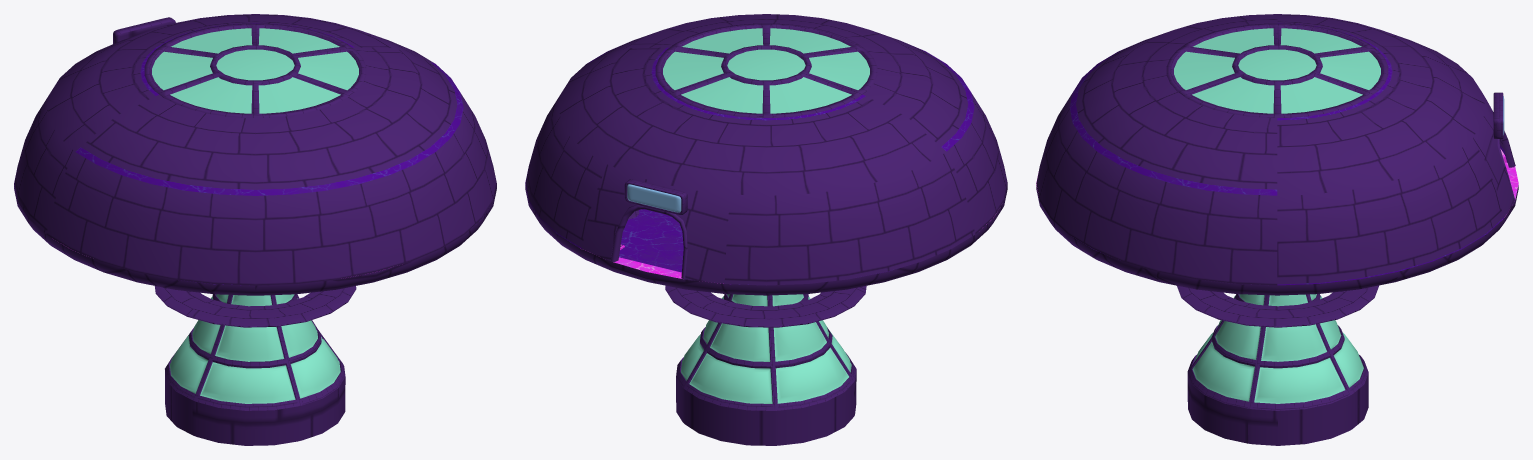
File: Protolick shop.fbx
3 views of the same model, side by side, from view 1: azimuth 30°, elevation 25°; view 2: azimuth 150°, elevation 25°; view 3: azimuth 270°, elevation 25° (orthographic).
Parts seen in each view (by area): view 1: Protolick_shop_top, Protolick_shop_base, Protolick_shop_base_ground, Protolick_shop_floor, Protolick_shop_sign; view 2: Protolick_shop_top, Protolick_shop_base, Protolick_shop_floor, Protolick_shop_base_ground, Protolick_shop_sign; view 3: Protolick_shop_top, Protolick_shop_base, Protolick_shop_base_ground, Protolick_shop_floor, Protolick_shop_sign.
Boxes of the visible parts, <box> form: Protolick_shop_top: <box>14,14,496,285</box>; Protolick_shop_base: <box>154,286,356,410</box>; Protolick_shop_base_ground: <box>165,371,345,445</box>; Protolick_shop_floor: <box>14,176,496,295</box>; Protolick_shop_sign: <box>113,17,175,43</box>; Protolick_shop_top: <box>525,14,1007,285</box>; Protolick_shop_base: <box>665,285,866,410</box>; Protolick_shop_floor: <box>525,177,1007,295</box>; Protolick_shop_base_ground: <box>676,370,856,445</box>; Protolick_shop_sign: <box>624,179,687,214</box>; Protolick_shop_top: <box>1036,14,1515,285</box>; Protolick_shop_base: <box>1177,285,1379,410</box>; Protolick_shop_base_ground: <box>1187,373,1368,445</box>; Protolick_shop_floor: <box>1036,162,1518,295</box>; Protolick_shop_sign: <box>1493,92,1504,138</box>.
Size of the model in its own units: 1804 by 1420 by 1804.
